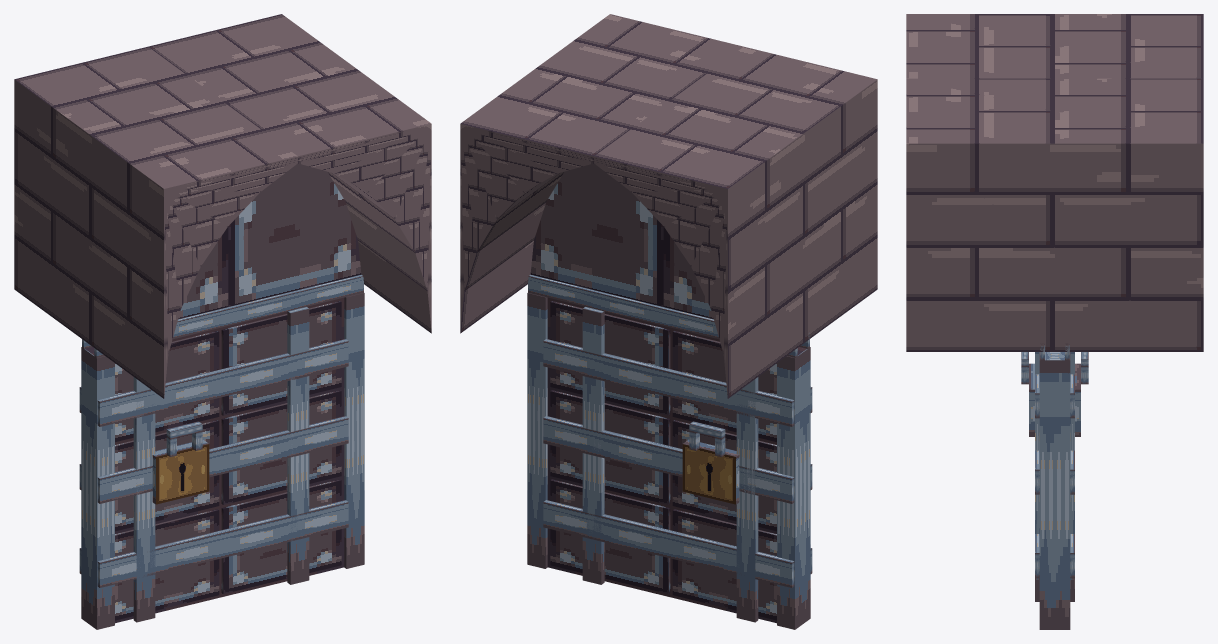
File: door_locked.glb
The picture shows the model from 3 angles, left to right: view 1: azimuth 30°, elevation 25°; view 2: azimuth 150°, elevation 25°; view 3: azimuth 270°, elevation 25°; orthographic projection.
Visible parts, largest first — view 1: portal, leaf, lock; view 2: portal, leaf, lock; view 3: portal, leaf, lock.
Part boxes in pixels (left/top/right/bottom): portal: left=14, top=14, right=431, bottom=629; leaf: left=79, top=297, right=348, bottom=623; lock: left=152, top=421, right=209, bottom=504; portal: left=460, top=14, right=877, bottom=629; leaf: left=543, top=297, right=812, bottom=623; lock: left=682, top=421, right=739, bottom=504; portal: left=906, top=14, right=1203, bottom=629; leaf: left=1035, top=352, right=1074, bottom=601; lock: left=1021, top=352, right=1088, bottom=436.
Bounding box in the file's own units: 2 × 3.5 × 1.94.
Materials: 1 (1 with a texture image).
